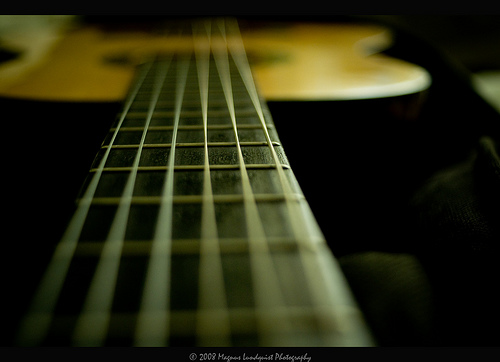guitar: (1, 15, 435, 362)
